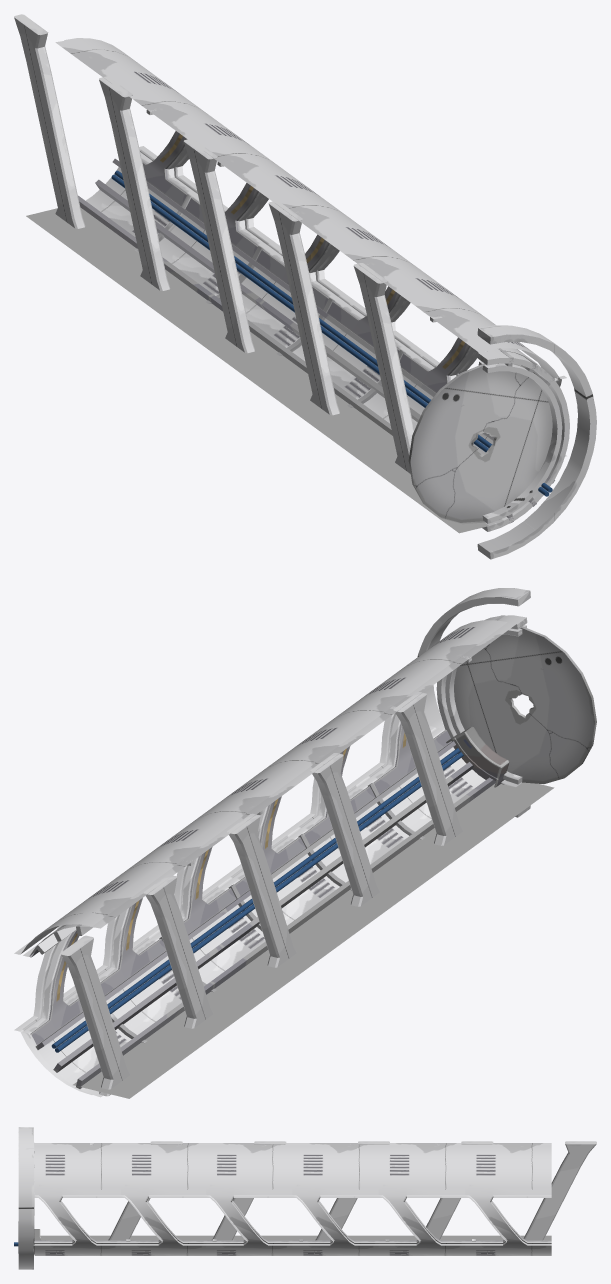
File: tank3 1.fbx
The picture shows the model from 3 angles, top to bottom: view 1: azimuth 30°, elevation 25°; view 2: azimuth 150°, elevation 25°; view 3: azimuth 270°, elevation 25°; orthographic projection. The views are drawn at different scales.
Visible parts, largest first — view 1: tank19_GEO, tank5_GEO, tank21_GEO, tankB6_GEO, tank6_GEO, tank2_GEO, tank7_GEO, tank3_GEO, tank1_GEO, tank49_GEO, tank10_GEO, tank51_GEO (+16 smaller); view 2: tank5_GEO, tank19_GEO, tankB6_GEO, tank21_GEO, tank6_GEO, tank7_GEO, tank3_GEO, tank1_GEO, tank2_GEO, tank10_GEO, tank53_GEO, tank50_GEO (+18 smaller); view 3: tank58_GEO, tank40_GEO, tank53_GEO, tankB8_GEO, tank41_GEO, tank59_GEO, tank21_GEO, tank6_GEO, tank5_GEO, tank3_GEO, tank1_GEO, tank2_GEO (+7 smaller).
Part boxes in pixels (box(x1,y1,x2,y2)): tank19_GEO: box(408, 363, 552, 524); tank5_GEO: box(26, 207, 488, 533); tank21_GEO: box(477, 325, 596, 559); tankB6_GEO: box(78, 158, 554, 523); tank6_GEO: box(14, 14, 85, 228); tank2_GEO: box(184, 138, 254, 353); tank7_GEO: box(268, 200, 339, 415); tank3_GEO: box(99, 76, 170, 290); tank1_GEO: box(353, 263, 414, 473); tank49_GEO: box(197, 144, 346, 355); tank10_GEO: box(111, 170, 552, 496); tank51_GEO: box(126, 92, 275, 295); tank5_GEO: box(73, 782, 554, 1098); tank19_GEO: box(454, 626, 596, 784); tankB6_GEO: box(35, 741, 495, 1088); tank21_GEO: box(417, 588, 530, 817); tank6_GEO: box(60, 935, 130, 1096); tank7_GEO: box(310, 753, 379, 906); tank3_GEO: box(144, 874, 213, 1028); tank1_GEO: box(393, 692, 463, 845); tank2_GEO: box(227, 813, 296, 967); tank10_GEO: box(51, 748, 463, 1052); tank53_GEO: box(14, 873, 160, 1094); tank50_GEO: box(23, 876, 169, 1097); tank58_GEO: box(378, 1145, 465, 1255); tank40_GEO: box(206, 1145, 292, 1255); tank53_GEO: box(465, 1145, 551, 1255); tankB8_GEO: box(34, 1145, 120, 1255); tank41_GEO: box(292, 1145, 378, 1255); tank59_GEO: box(121, 1145, 207, 1255); tank21_GEO: box(18, 1127, 34, 1269); tank6_GEO: box(523, 1141, 596, 1240); tank5_GEO: box(40, 1235, 551, 1240); tank3_GEO: box(426, 1141, 493, 1239); tank1_GEO: box(108, 1141, 182, 1240); tank2_GEO: box(315, 1141, 389, 1240).
Bounding box in the file's own units: 6.13 × 7.22 × 28.14.
10 materials, 9 textured.
